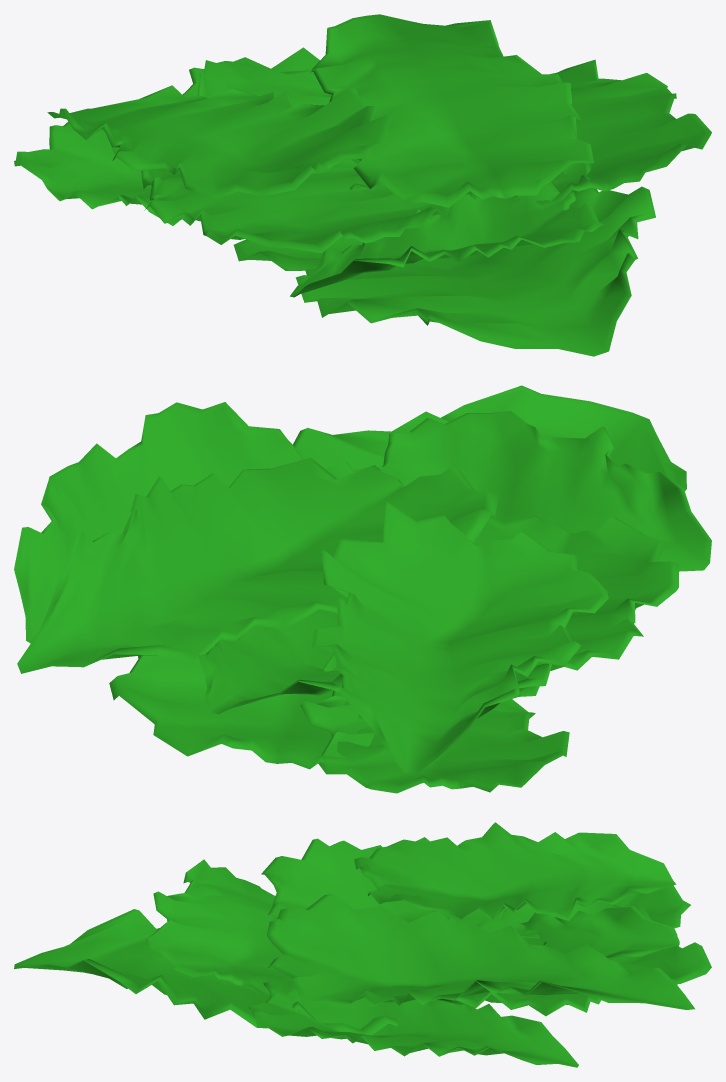
The model's file is mesh_fishandchips_lettuce.fbx.
The picture shows the model from 3 angles, top to bottom: view 1: azimuth 30°, elevation 25°; view 2: azimuth 150°, elevation 25°; view 3: azimuth 270°, elevation 25°; orthographic projection. The views are drawn at different scales.
Visible parts, largest first — view 1: mesh_fishandchips_lettuce; view 2: mesh_fishandchips_lettuce; view 3: mesh_fishandchips_lettuce.
Part boxes in pixels (x1=…): mesh_fishandchips_lettuce: x1=14, y1=14, x2=711, y2=356; mesh_fishandchips_lettuce: x1=14, y1=385, x2=711, y2=793; mesh_fishandchips_lettuce: x1=14, y1=822, x2=711, y2=1067.
Size of the model in its own units: 0.2109 by 0.0458 by 0.265.
